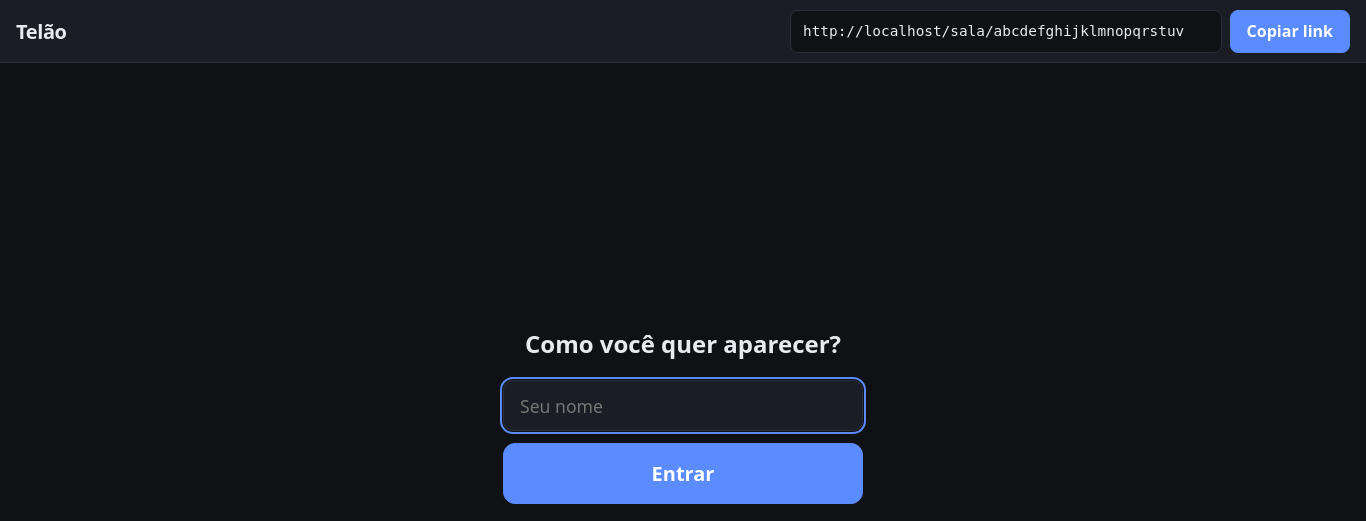
Scenario: Entrar na sala pelo link › se a sala encher enquanto digitava o nome, a 7ª pessoa vê 'Sala cheia'
Type "Gil" into the field labelled "Seu nome" at [683, 406], box x1=503 y1=380 x2=863 y2=432
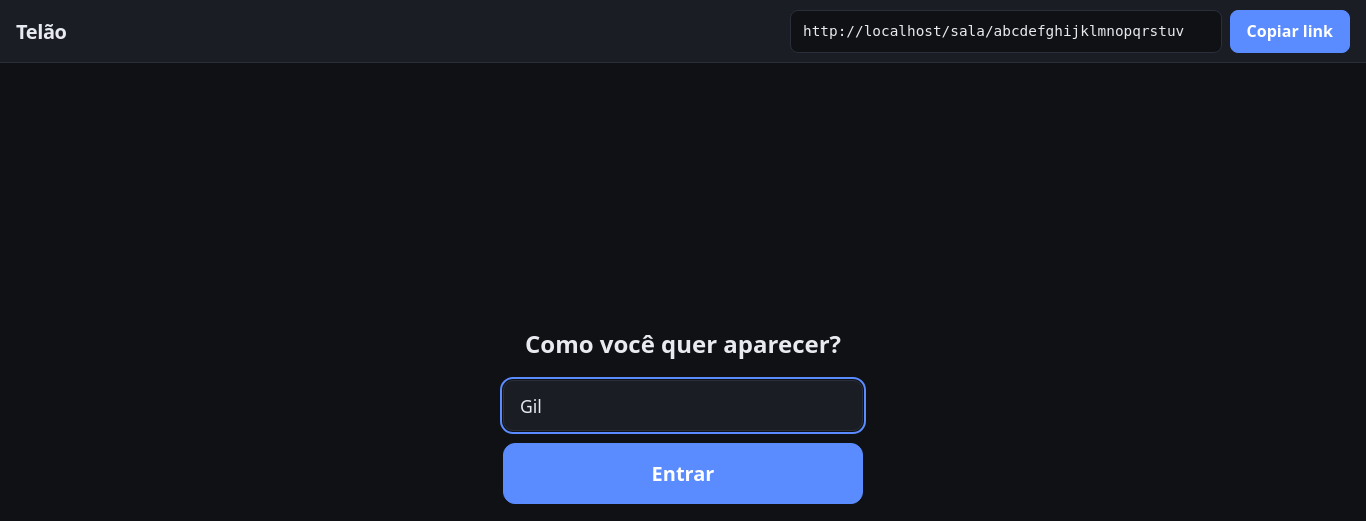
Click the button "Entrar" at [683, 474], box x1=503 y1=444 x2=863 y2=504
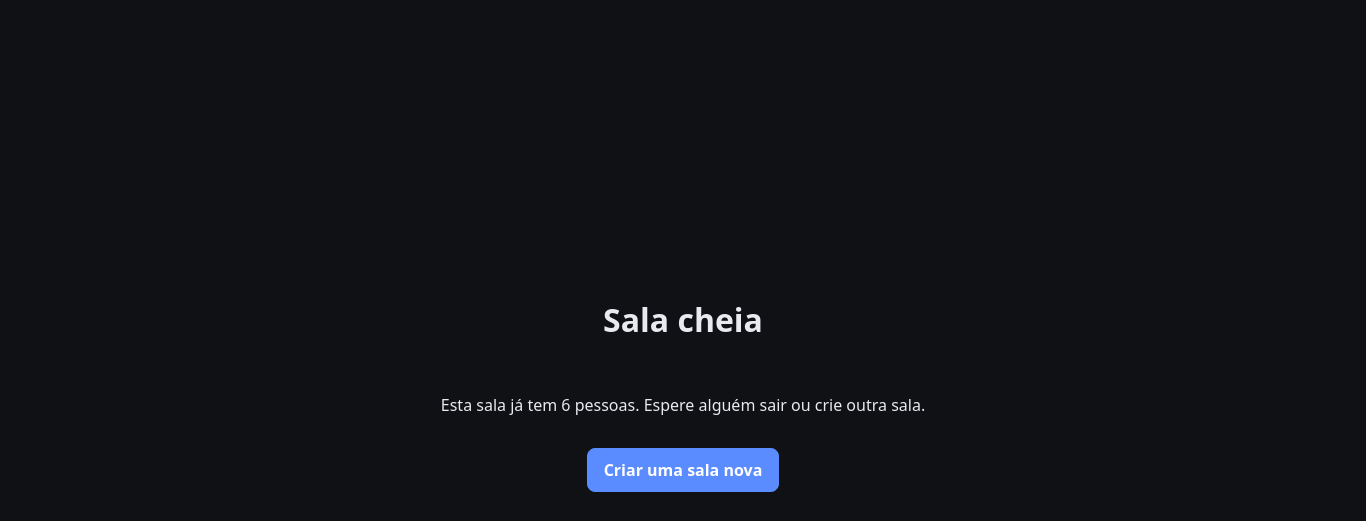
Expected: the heading "Sala cheia" is shown, x1=603 y1=298 x2=763 y2=341
